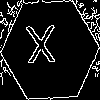X: (25, 25, 58, 73)
